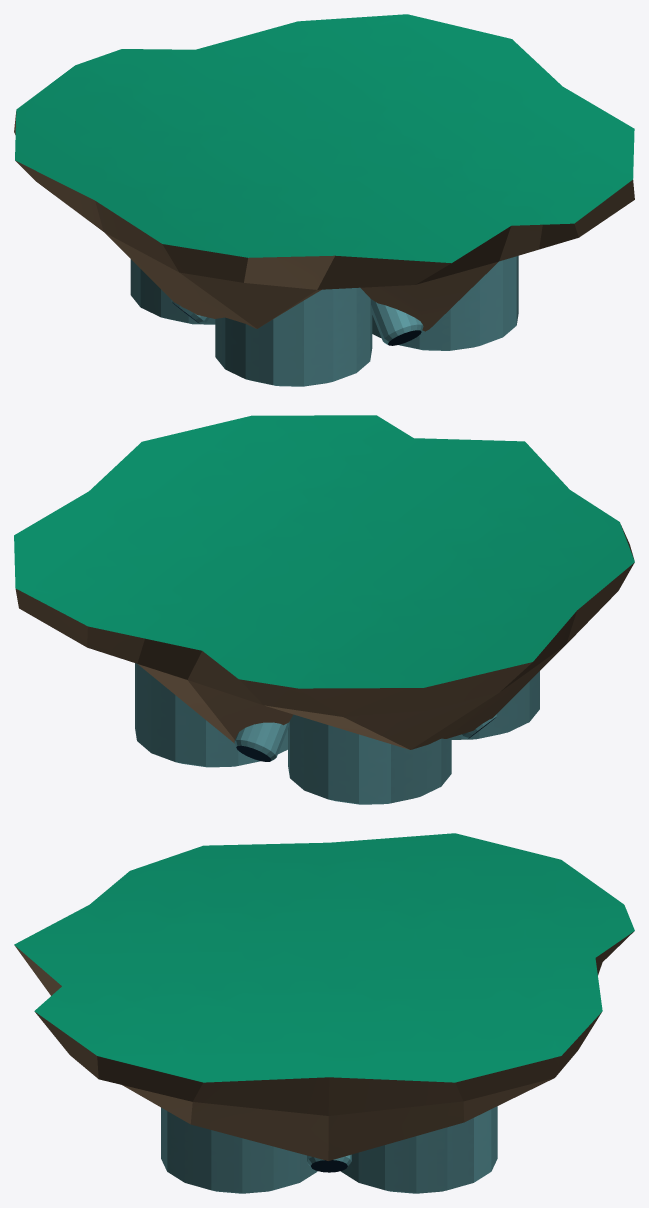
File: zemlya_anim.fbx
3 renders of one model, top to bottom at view 1: azimuth 30°, elevation 25°; view 2: azimuth 150°, elevation 25°; view 3: azimuth 270°, elevation 25°, orthographic. The views are drawn at different scales.
Parts seen in each view (by area): view 1: ground; view 2: ground; view 3: ground.
Part boxes in pixels (left/top/right/bottom): ground: left=14, top=14, right=634, bottom=386; ground: left=14, top=415, right=634, bottom=804; ground: left=14, top=833, right=634, bottom=1193.
Size of the model in its own units: 2186 by 697 by 2300.
1 material, 1 textured.
